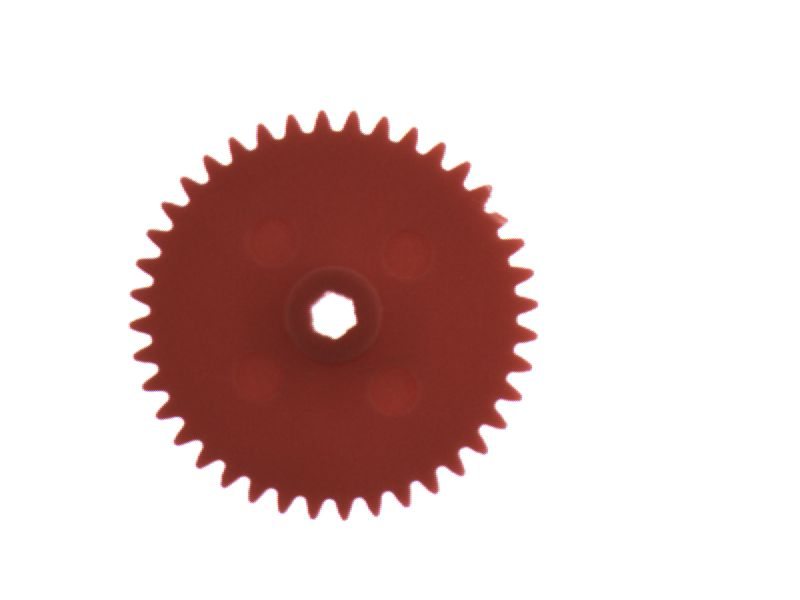defect_break: (478, 199, 524, 236)
